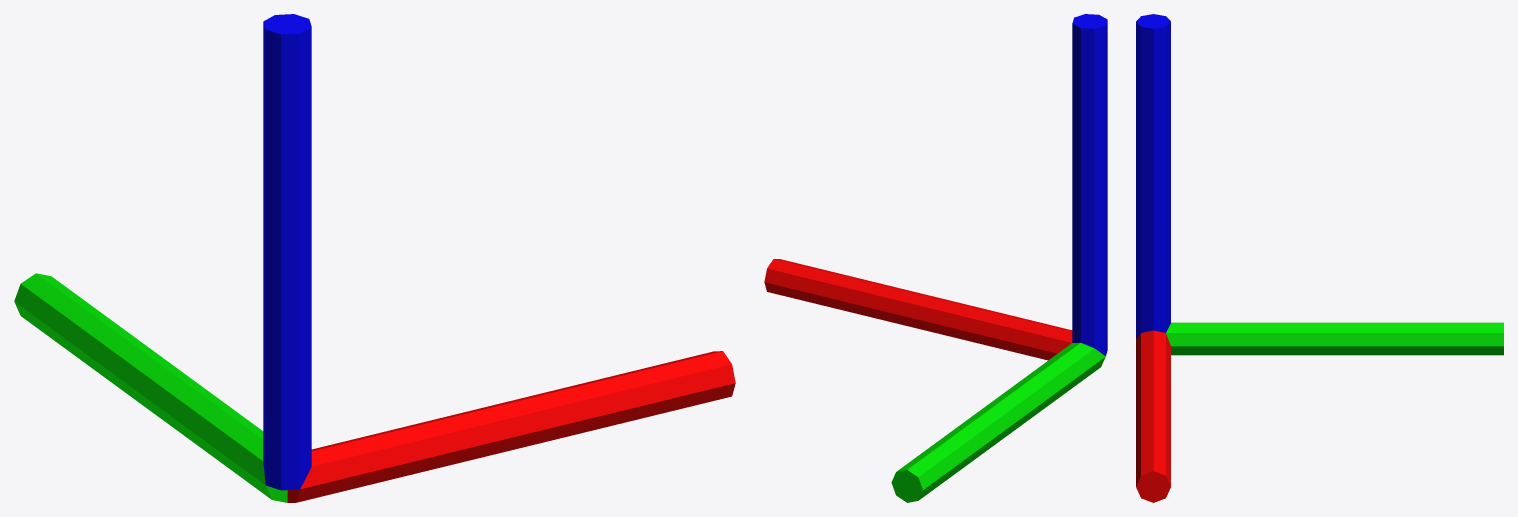
Rendered from axes.dae.
3 views of the same model, side by side, from view 1: azimuth 30°, elevation 25°; view 2: azimuth 150°, elevation 25°; view 3: azimuth 270°, elevation 25° (orthographic). The views are drawn at different scales.
Visible parts, largest first — view 1: Cylinder; view 2: Cylinder; view 3: Cylinder.
Boxes of the visible parts, bbox=[...] form: Cylinder: bbox=[14, 14, 735, 502]; Cylinder: bbox=[764, 14, 1107, 502]; Cylinder: bbox=[1136, 14, 1503, 502].
Bounding box in the file's own units: 1.05 × 1.05 × 1.05.
